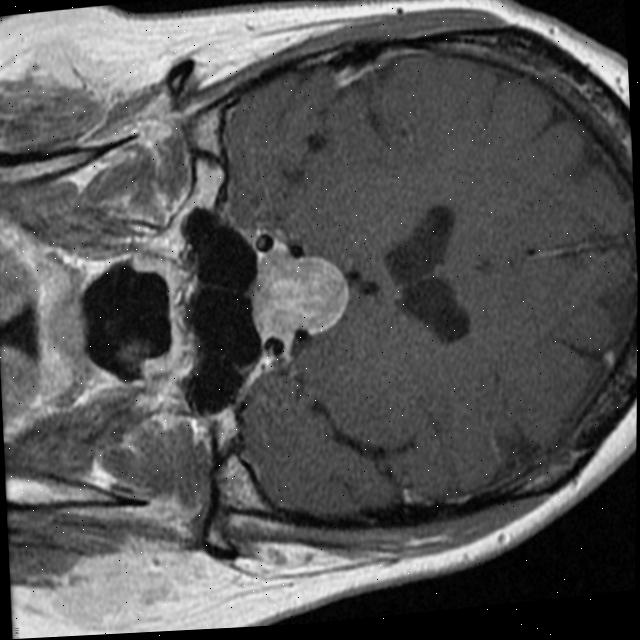Pituitary: (247, 242, 353, 345)
